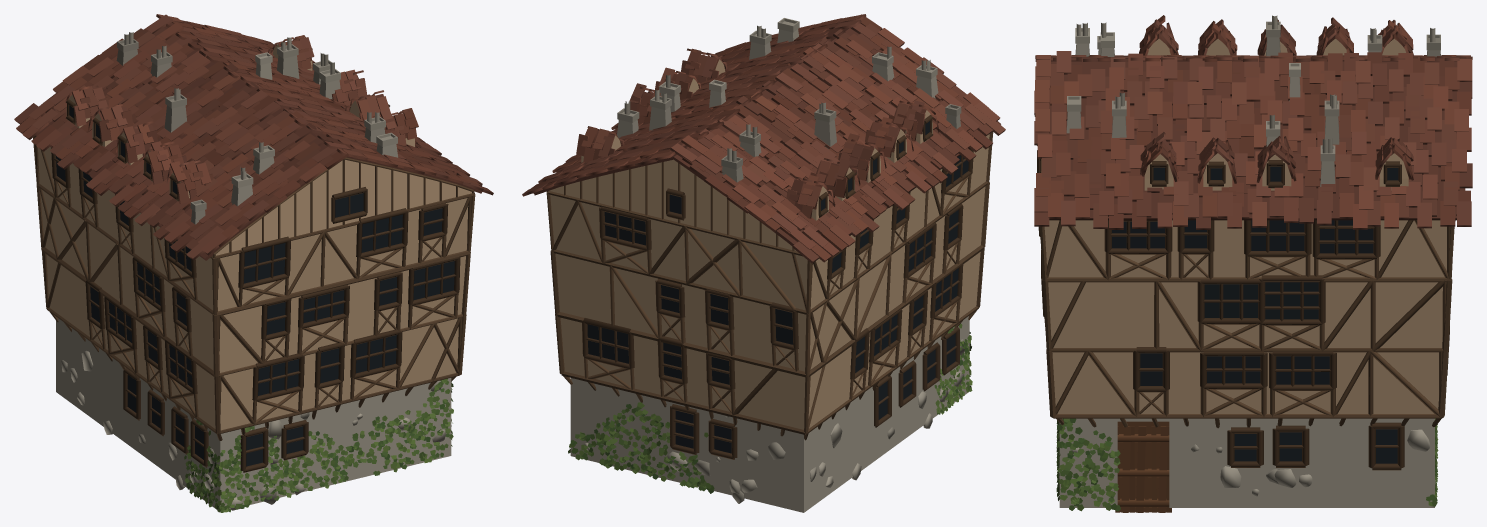
Rendered from house_42.glb.
3 views of the same model, side by side, from view 1: azimuth 30°, elevation 25°; view 2: azimuth 150°, elevation 25°; view 3: azimuth 270°, elevation 25° (orthographic). The views are drawn at different scales.
Visible parts, largest first — view 1: house_42; view 2: house_42; view 3: house_42.
Part boxes in pixels (x1,y1,x2,y2): house_42: (14, 14, 493, 512); house_42: (522, 14, 1005, 512); house_42: (1034, 15, 1472, 512).
Size of the model in its own units: 8.72 by 9.86 by 9.67.
